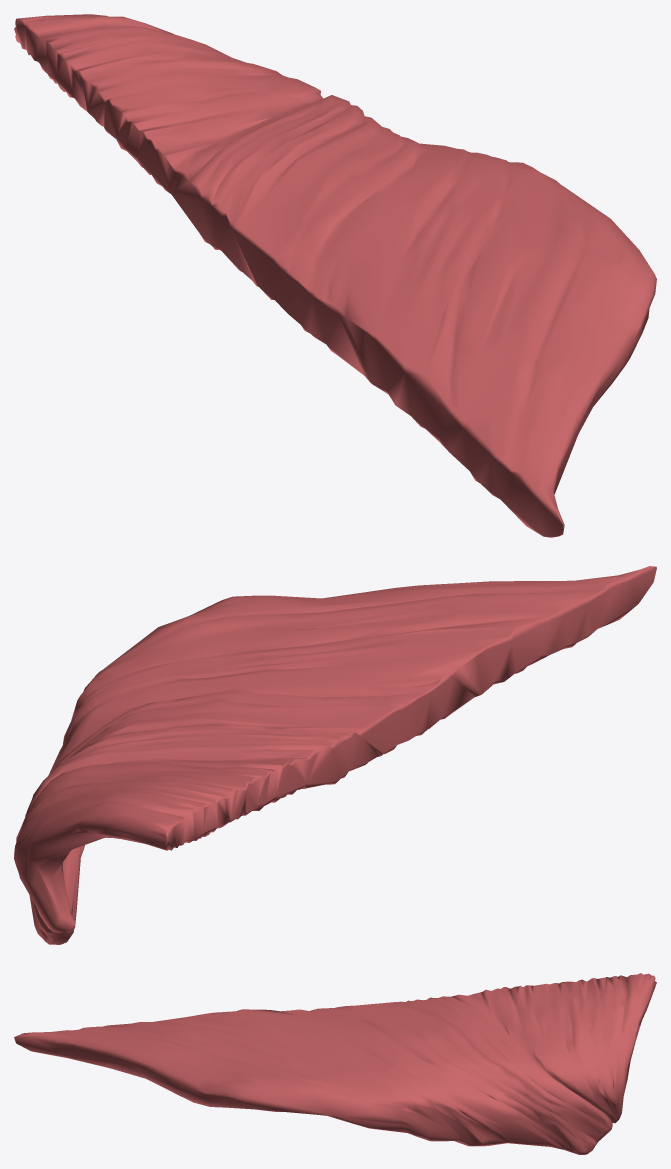
The picture shows the model from 3 angles, top to bottom: view 1: azimuth 30°, elevation 25°; view 2: azimuth 150°, elevation 25°; view 3: azimuth 270°, elevation 25°; orthographic projection. The views are drawn at different scales.
Parts seen in each view (by area): view 1: 左侧咽下缩肌; view 2: 左侧咽下缩肌; view 3: 左侧咽下缩肌.
Boxes of the visible parts, <box> form: 左侧咽下缩肌: <box>14,14,656,537</box>; 左侧咽下缩肌: <box>14,566,656,944</box>; 左侧咽下缩肌: <box>14,973,656,1154</box>.
Size of the model in its own units: 0.0324 by 0.0211 by 0.0959.
